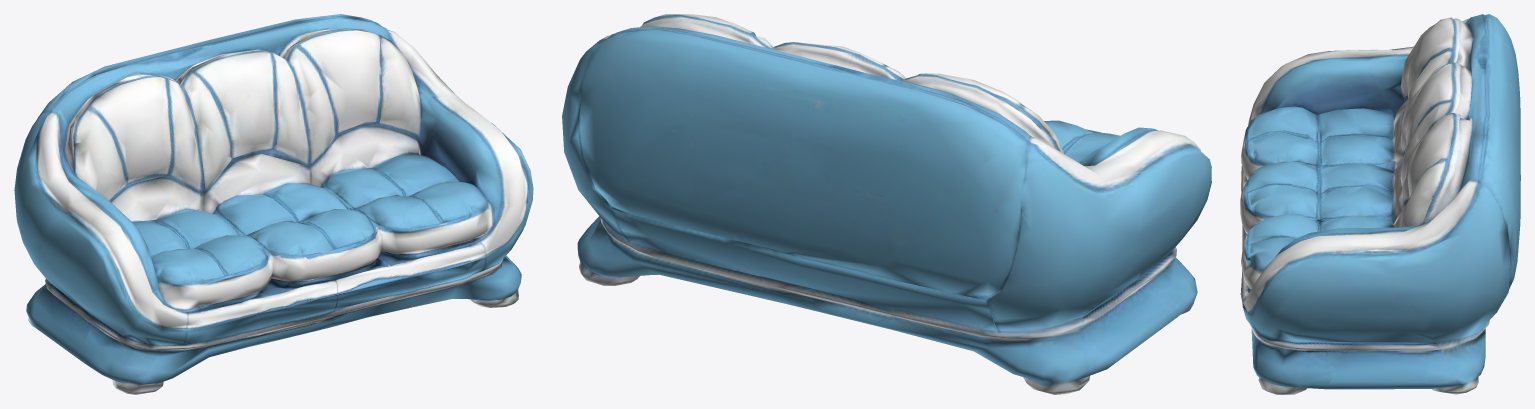
The model's file is m-sofa.glb.
3 renders of one model, left to right at view 1: azimuth 30°, elevation 25°; view 2: azimuth 150°, elevation 25°; view 3: azimuth 270°, elevation 25°, orthographic. The views are drawn at different scales.
Parts seen in each view (by area): view 1: tripo_node_cb7d9def-90cf-4d9a-9180-2a453fa20eb9; view 2: tripo_node_cb7d9def-90cf-4d9a-9180-2a453fa20eb9; view 3: tripo_node_cb7d9def-90cf-4d9a-9180-2a453fa20eb9.
Part boxes in pixels (x1=…): tripo_node_cb7d9def-90cf-4d9a-9180-2a453fa20eb9: x1=14, y1=14, x2=533, y2=394; tripo_node_cb7d9def-90cf-4d9a-9180-2a453fa20eb9: x1=562, y1=14, x2=1211, y2=394; tripo_node_cb7d9def-90cf-4d9a-9180-2a453fa20eb9: x1=1240, y1=14, x2=1520, y2=394.
Size of the model in its own units: 0.9998 by 0.4981 by 0.5634.
1 material, 1 textured.
